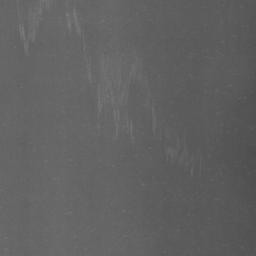Silk spot: (151, 120, 192, 168), (16, 21, 42, 50), (91, 99, 113, 131)
